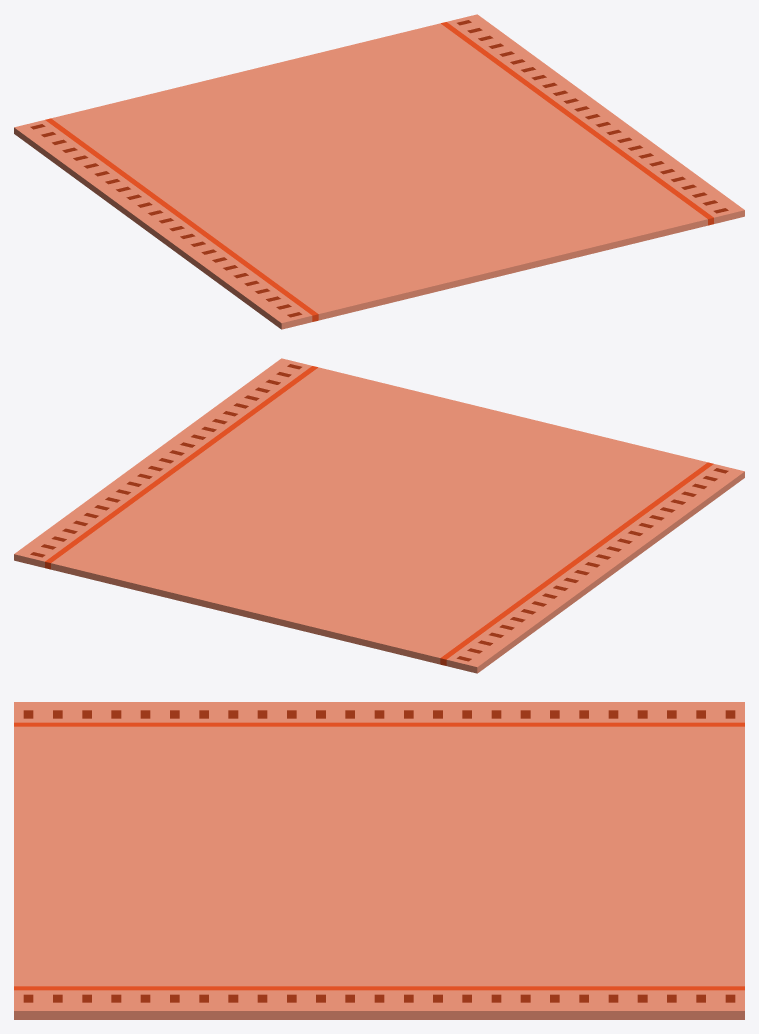
The model's file is straight_0-0.obj.
The picture shows the model from 3 angles, top to bottom: view 1: azimuth 30°, elevation 25°; view 2: azimuth 150°, elevation 25°; view 3: azimuth 270°, elevation 25°; orthographic projection. The views are drawn at different scales.
Visible parts, largest first — view 1: straight_0-0; view 2: straight_0-0; view 3: straight_0-0.
Boxes of the visible parts, x1,y1,x2,y2 form: straight_0-0: (14, 14, 744, 329); straight_0-0: (14, 358, 744, 673); straight_0-0: (14, 702, 744, 1019).
Size of the model in its own units: 75 by 1 by 75.
Materials: 1 (1 with a texture image).
